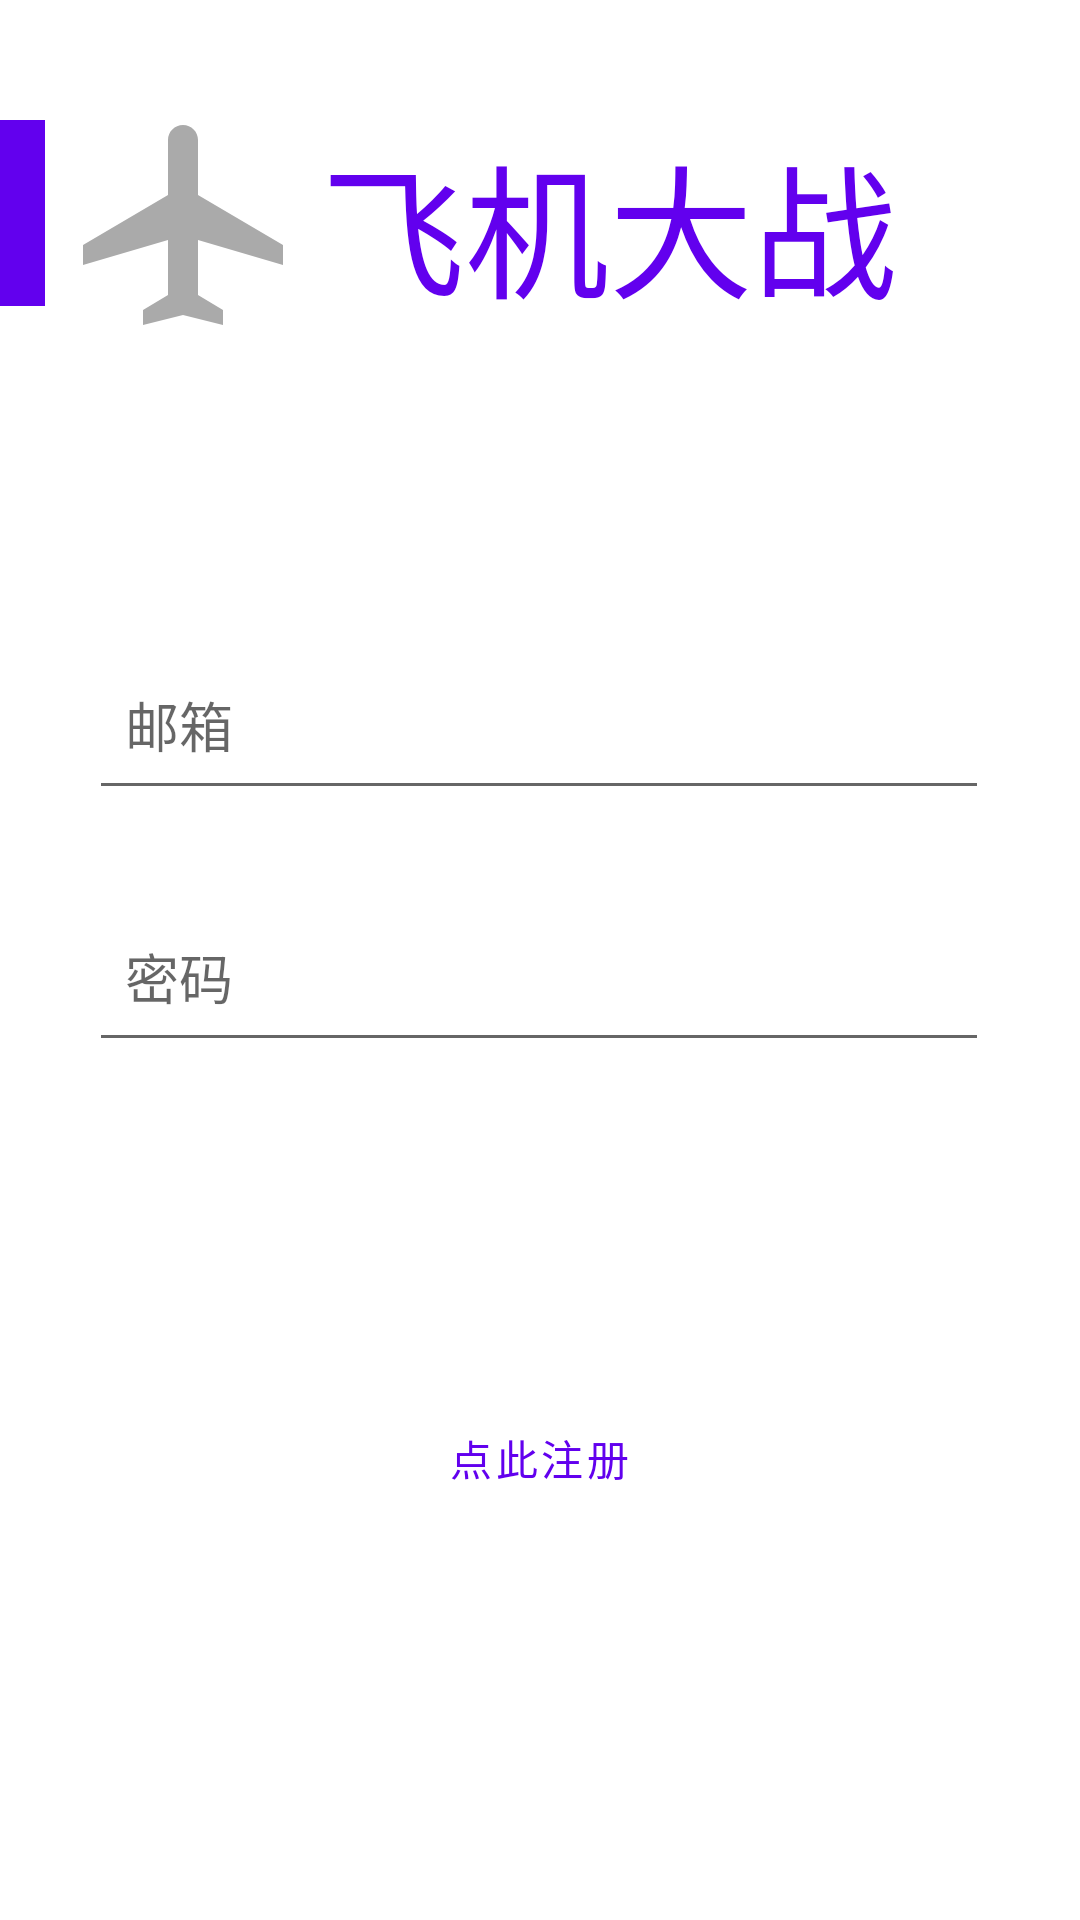

Where icons sit on this 1080px×1920px app screen, as (x1, y1, x2, y2):
planelogo: (83, 125, 283, 325)
